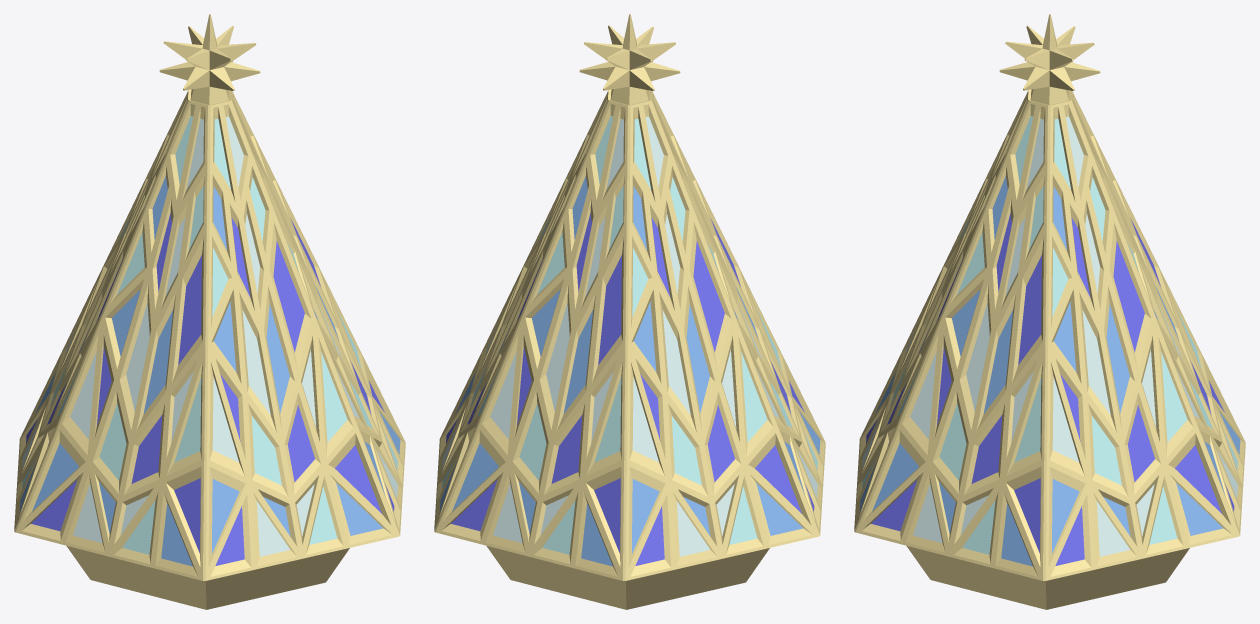
The model's file is hex.glb.
3 views of the same model, side by side, from view 1: azimuth 30°, elevation 25°; view 2: azimuth 150°, elevation 25°; view 3: azimuth 270°, elevation 25° (orthographic).
Parts seen in each view (by area): view 1: HexagonTree; view 2: HexagonTree; view 3: HexagonTree.
Part boxes in pixels (x1,y1,x2,y2): HexagonTree: (14, 14, 405, 609); HexagonTree: (434, 14, 825, 609); HexagonTree: (854, 14, 1245, 609).
Bounding box in the file's own units: 3.76 × 5.02 × 3.31.
